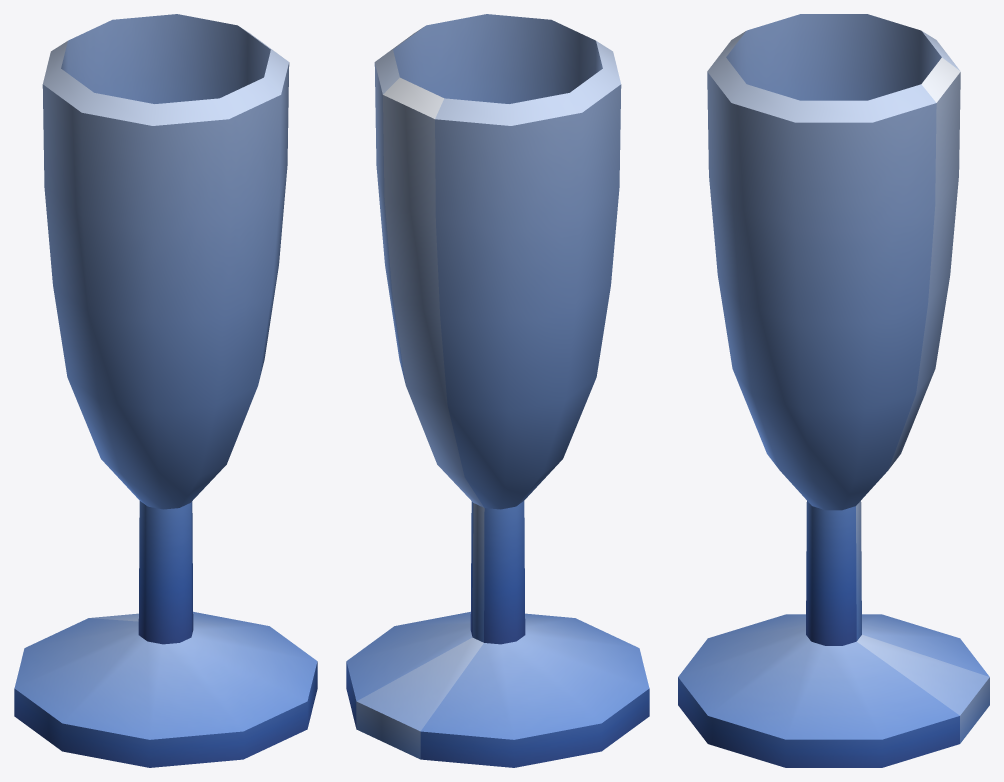
File: m_Glass03.fbx
3 renders of one model, left to right at view 1: azimuth 30°, elevation 25°; view 2: azimuth 150°, elevation 25°; view 3: azimuth 270°, elevation 25°, orthographic.
Visible parts, largest first — view 1: m_Glass03; view 2: m_Glass03; view 3: m_Glass03.
Boxes of the visible parts, x1,y1,x2,y2 form: m_Glass03: (14,14,317,767); m_Glass03: (346,14,649,767); m_Glass03: (678,14,989,767).
Bounding box in the file's own units: 9.51 × 22.93 × 10.
